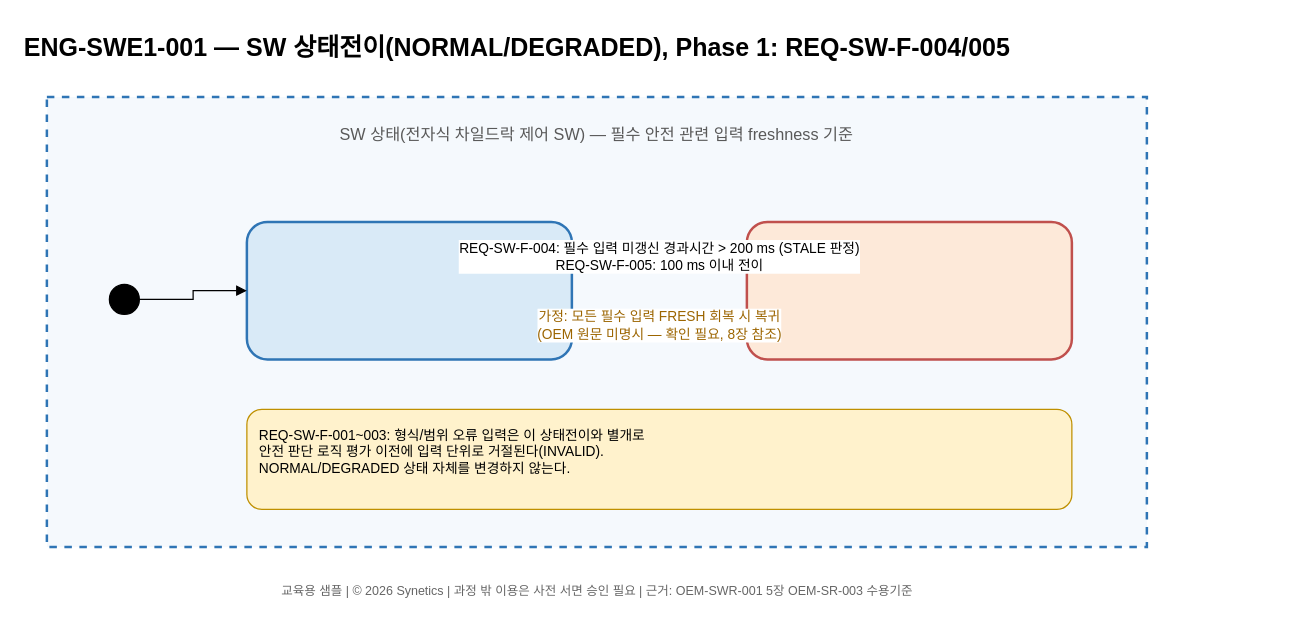
Image size: 1293x630. Some labels were removed from this diagram. Each missing label, with the centre of its shape:
"DEGRADED (하나 이상 필수 안전 관련 입력 STALE)" goes at pixel 908 290.
"NORMAL (모든 필수 안전 관련 입력 FRESH)" goes at pixel 408 290.
